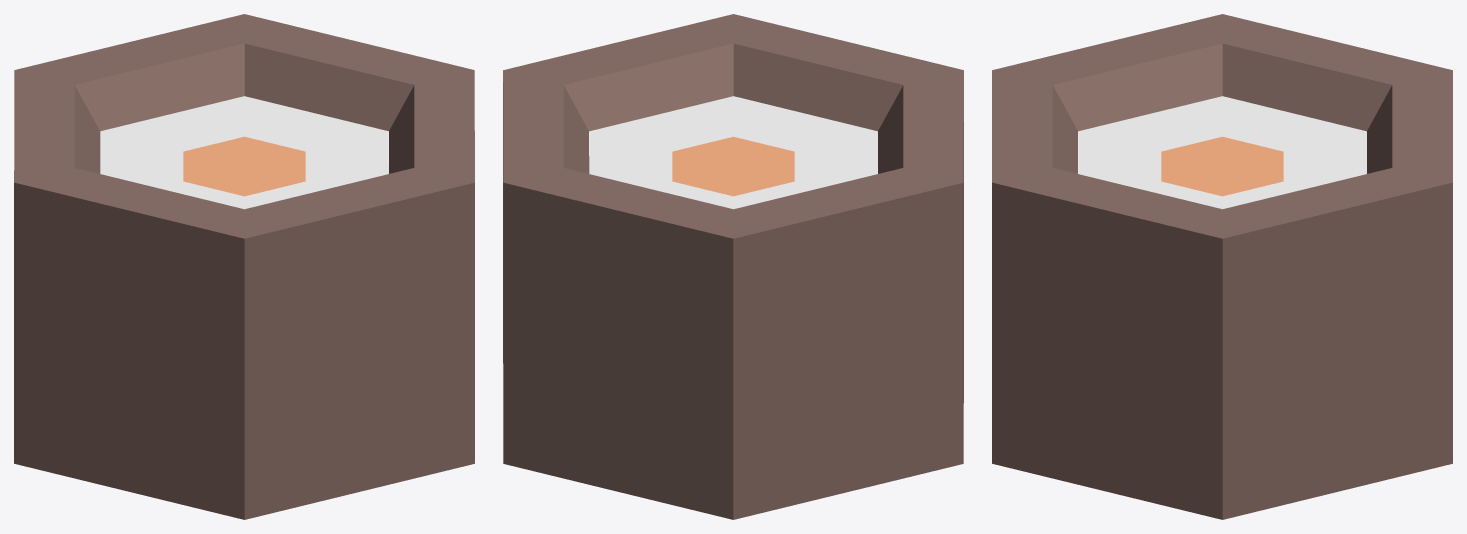
3 views of the same model, side by side, from view 1: azimuth 30°, elevation 25°; view 2: azimuth 150°, elevation 25°; view 3: azimuth 270°, elevation 25° (orthographic).
Visible parts, largest first — view 1: makiSalmon; view 2: makiSalmon; view 3: makiSalmon.
Part boxes in pixels (box(x1,y1,x2,y2)): makiSalmon: box(14, 14, 474, 519); makiSalmon: box(503, 14, 963, 519); makiSalmon: box(992, 14, 1452, 519).
Size of the model in its own units: 0.12 by 0.07 by 0.1039.
